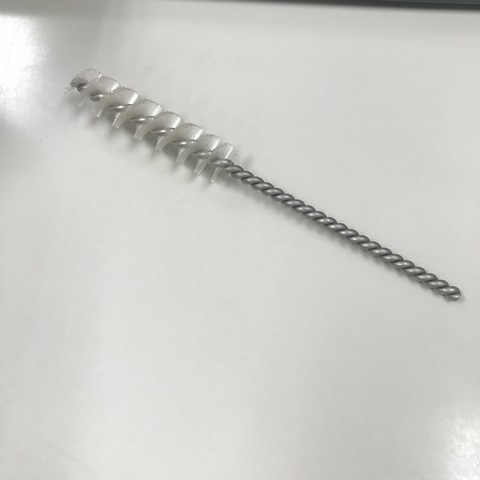Twist Brush-B: (63, 65, 462, 303)
